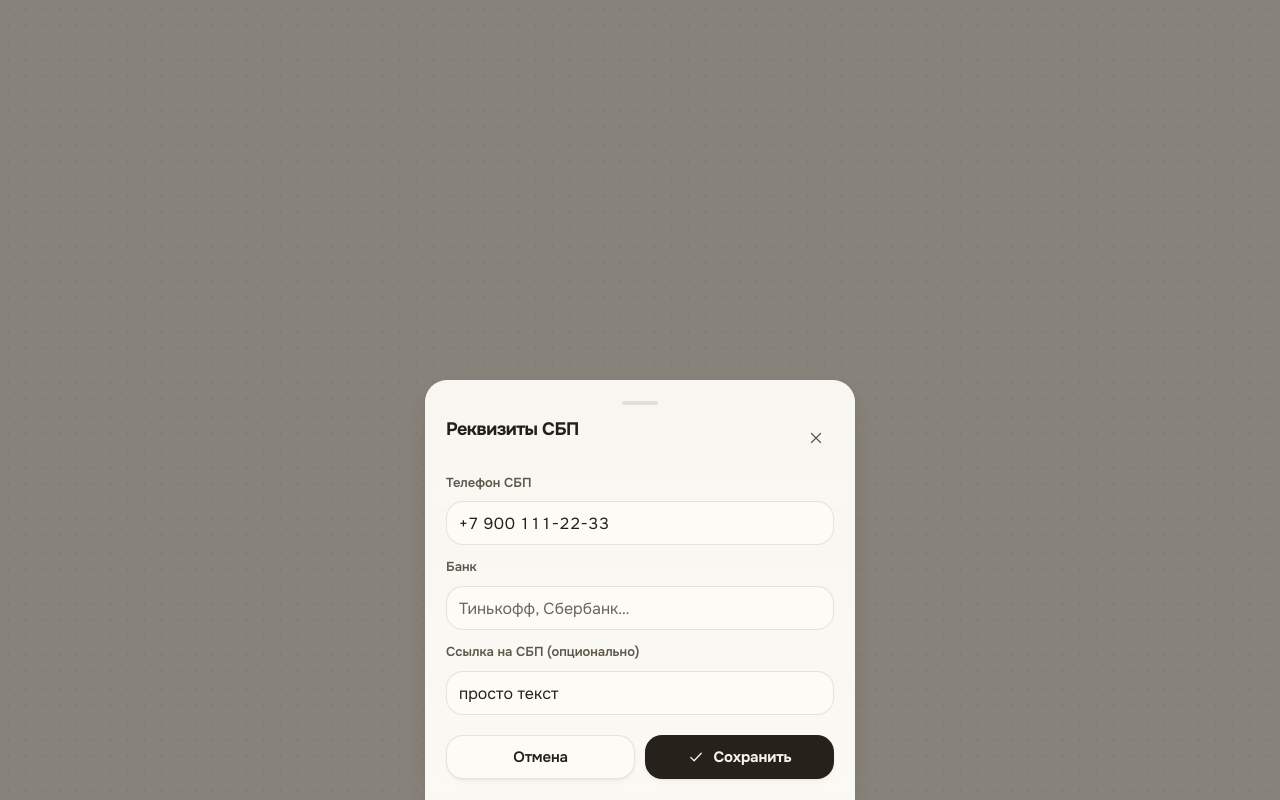
it: EditPaymentInfoSheet › не отправляет то, что не является ссылкой
Click the button "Сохранить" at (740, 757), box x1=645 y1=735 x2=834 y2=779
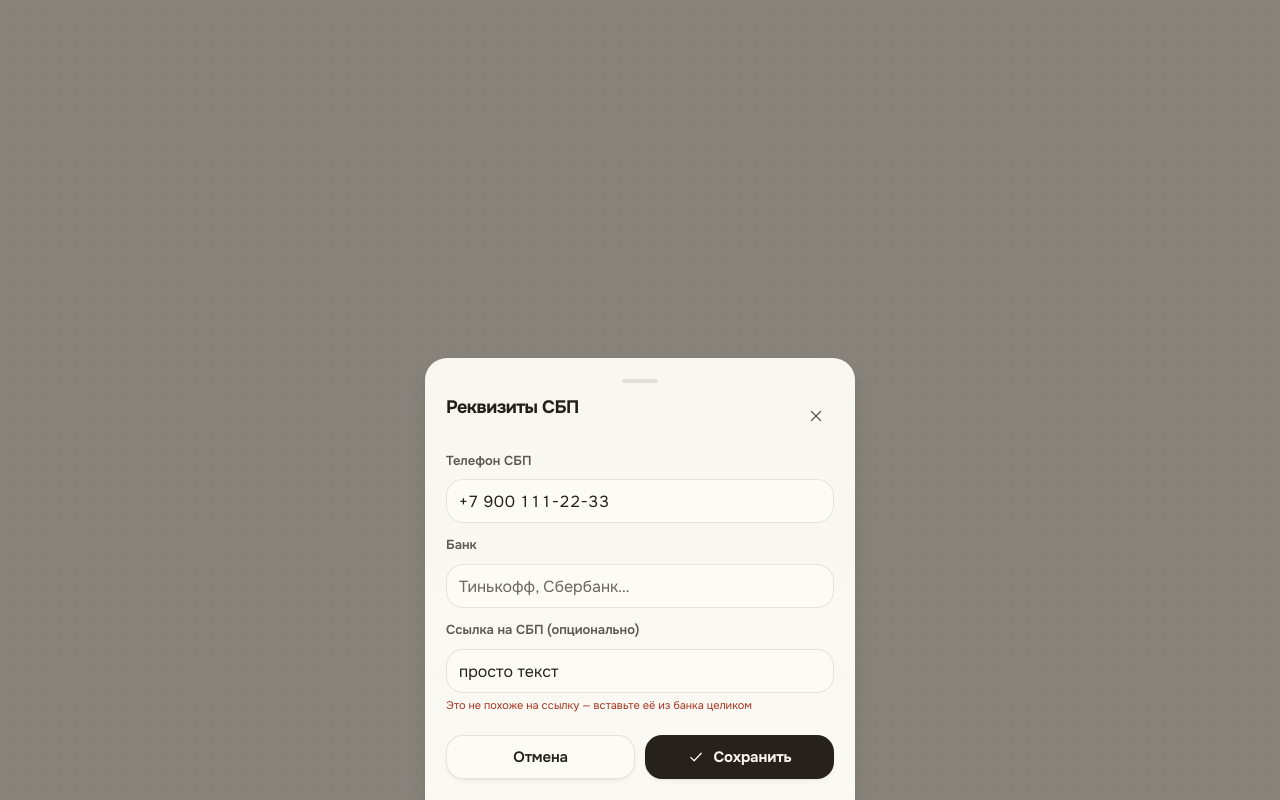
Now the text "Это не похоже на ссылку — вставьте её из банка целиком" is shown, box x1=446 y1=698 x2=752 y2=712
